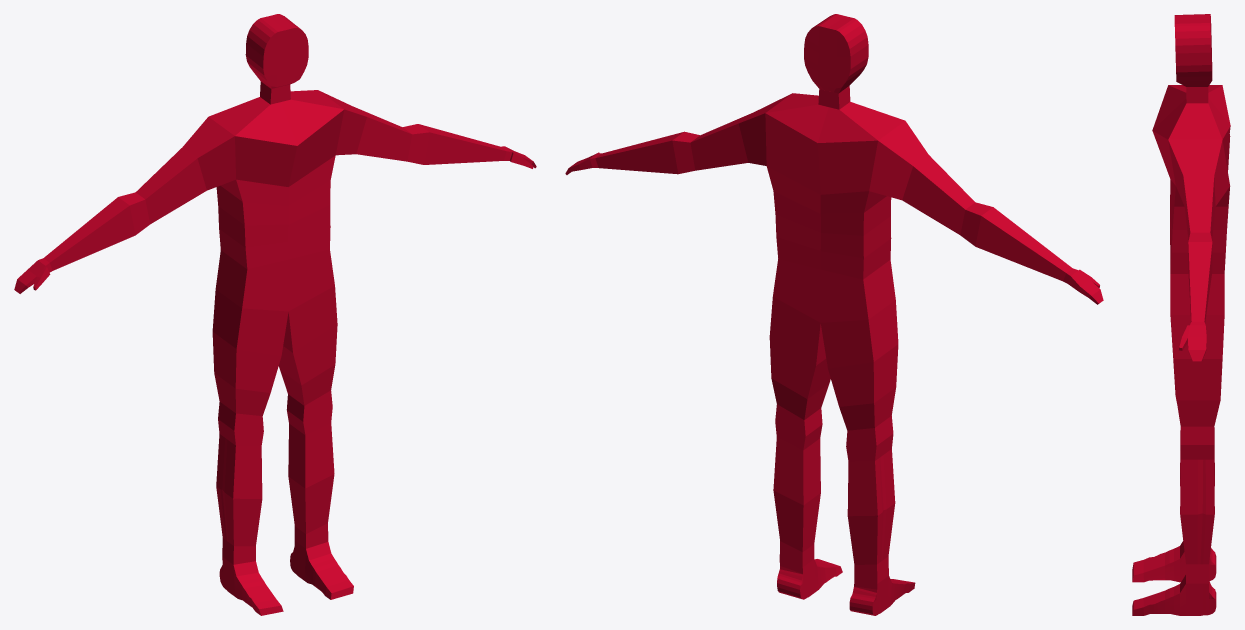
The model's file is third.obj.
The picture shows the model from 3 angles, left to right: view 1: azimuth 30°, elevation 25°; view 2: azimuth 150°, elevation 25°; view 3: azimuth 270°, elevation 25°; orthographic projection. The views are drawn at different scales.
Visible parts, largest first — view 1: Cube; view 2: Cube; view 3: Cube.
Boxes of the visible parts, x1,y1,x2,y2 form: Cube: [14, 14, 536, 615]; Cube: [565, 14, 1103, 615]; Cube: [1132, 14, 1230, 615].
Size of the model in its own units: 8.32 by 8.62 by 1.33.
